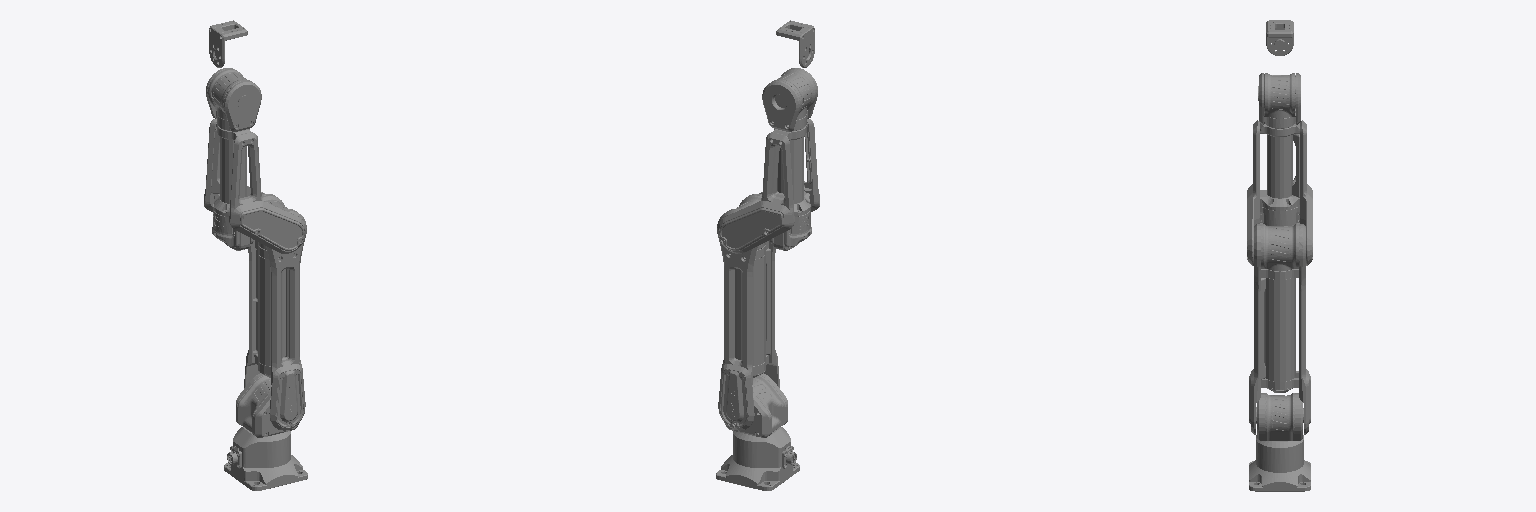
URDF robot description (xpkg_urdf_saberd6x):
<?xml version="1.0" encoding="utf-8"?>
<!-- This URDF was automatically created by SolidWorks to URDF Exporter! Originally created by [author] ([email redacted]) 
     Commit Version: 1.6.0-4-g7f85cfe  Build Version: 1.6.7995.38578
     For more information, please see http://wiki.ros.org/sw_urdf_exporter -->
<robot name="xpkg_urdf_saberd6x">
    <link name="base_link">
        <inertial>
            <origin xyz="-0.0027793 -9.439E-06 0.033407" rpy="0 0 0" />
            <mass value="0.2873" />
            <inertia ixx="0.00038435" ixy="-2.1028E-08" ixz="1.6655E-05"
                    iyy="0.00040643" iyz="-9.8042E-10" izz="0.00048639" />
        </inertial>
        <visual>
            <origin xyz="0 0 0" rpy="0 0 0" />
            <geometry>
                <mesh filename="package://xpkg_urdf_saberd6x/urdf/meshes/base_link.STL" />
            </geometry>
            <material name="">
                <color rgba="0.6 0.6 0.6 1" />
            </material>
        </visual>
        <collision>
            <origin xyz="0 0 0" rpy="0 0 0" />
            <geometry>
                <mesh filename="package://xpkg_urdf_saberd6x/urdf/meshes/base_link.STL" />
            </geometry>
        </collision>
    </link>
    
    <link name="link_1">
        <inertial>
            <origin xyz="0.0060334 0.0047366 0.027609" rpy="0 0 0" />
            <mass value="0.22105" />
            <inertia ixx="0.000106" ixy="-3.0677E-07" ixz="-1.5507E-05"
                    iyy="0.0001891" iyz="-9.9365E-08" izz="0.00015759" />
        </inertial>
        <visual>
            <origin xyz="0 0 0" rpy="0 0 0" />
            <geometry>
                <mesh filename="package://xpkg_urdf_saberd6x/urdf/meshes/link_1.STL" />
            </geometry>
            <material name="">
                <color rgba="0.6 0.6 0.6 1" />
            </material>
        </visual>
        <collision>
            <origin xyz="0 0 0" rpy="0 0 0" />
            <geometry>
                <mesh filename="package://xpkg_urdf_saberd6x/urdf/meshes/link_1.STL" />
            </geometry>
        </collision>
    </link>
    <joint name="joint_1" type="revolute">
        <origin xyz="0 0 0.0795" rpy="0 0 0" />
        <parent link="base_link" />
        <child link="link_1" />
        <axis xyz="0 0 1" />
        <limit effort="40.0" lower="-2.9845" upper="2.9845" velocity="100" />
    </joint>

    <link name="link_2">
        <inertial>
            <origin xyz="0.00016024 -0.00026641 0.1639" rpy="0 0 0" />
            <mass value="0.90382" />
            <inertia ixx="0.0056179" ixy="1.9731E-08" ixz="1.1466E-05"
                    iyy="0.0057706" iyz="-8.018E-07" izz="0.00034731" />
        </inertial>
        <visual>
            <origin xyz="0 0 0" rpy="0 0 0" />
            <geometry>
                <mesh filename="package://xpkg_urdf_saberd6x/urdf/meshes/link_2.STL" />
            </geometry>
            <material name="">
                <color rgba="0.6 0.6 0.6 1" />
            </material>
        </visual>
        <collision>
            <origin xyz="0 0 0" rpy="0 0 0" />
            <geometry>
                <mesh filename="package://xpkg_urdf_saberd6x/urdf/meshes/link_2.STL" />
            </geometry>
        </collision>
    </link>
    <joint name="joint_2" type="revolute">
        <origin xyz="0.015 0 0.0385" rpy="0 0 0" />
        <parent link="link_1" />
        <child link="link_2" />
        <axis xyz="0 1 0" />
        <limit effort="40.0" lower="-2.0944" upper="1.5708" velocity="100" />
    </joint>
    
    <link name="link_3">
        <inertial>
            <origin xyz="-0.060758 0.0015314 0.063124" rpy="0 0 0" />
            <mass value="0.77967" />
            <inertia ixx="0.0013164" ixy="6.7544E-07" ixz="0.00036698"
                    iyy="0.0017075" iyz="-1.8109E-06" izz="0.00062047" />
        </inertial>
        <visual>
            <origin xyz="0 0 0" rpy="0 0 0" />
            <geometry>
                <mesh filename="package://xpkg_urdf_saberd6x/urdf/meshes/link_3.STL" />
            </geometry>
            <material name="">
                <color rgba="0.6 0.6 0.6 1" />
            </material>
        </visual>
        <collision>
            <origin xyz="0 0 0" rpy="0 0 0" />
            <geometry>
                <mesh filename="package://xpkg_urdf_saberd6x/urdf/meshes/link_3.STL" />
            </geometry>
        </collision>
    </link>
    <joint name="joint_3" type="revolute">
        <origin xyz="0 0 0.3" rpy="0 0 0" />
        <parent link="link_2" />
        <child link="link_3" />
        <axis xyz="0 1 0" />
        <limit effort="40.0" lower="-0.3927" upper="3.1416" velocity="0" />
    </joint>

    <link name="link_4">
        <inertial>
            <origin xyz="2.0187E-05 -0.0020115 0.041453" rpy="0 0 0" />
            <mass value="0.27032" />
            <inertia ixx="0.00012345" ixy="-3.6634E-08" ixz="7.7235E-09"
                    iyy="0.0001646" iyz="3.282E-07" izz="0.00012046" />
        </inertial>
        <visual>
            <origin xyz="0 0 0" rpy="0 0 0" />
            <geometry>
                <mesh filename="package://xpkg_urdf_saberd6x/urdf/meshes/link_4.STL" />
            </geometry>
            <material name="">
                <color rgba="0.6 0.6 0.6 1" />
            </material>
        </visual>
        <collision>
            <origin xyz="0 0 0" rpy="0 0 0" />
            <geometry>
                <mesh filename="package://xpkg_urdf_saberd6x/urdf/meshes/link_4.STL" />
            </geometry>
        </collision>
    </link>
    <joint name="joint_4" type="revolute">
        <origin xyz="-0.072 0 0.185" rpy="0 0 0" />
        <parent link="link_3" />
        <child link="link_4" />
        <axis xyz="0 0 1" />
        <limit effort="40.0" lower="-2.9670597284" upper="2.9670597284" velocity="0" />
    </joint>

    <link name="link_5">
        <inertial>
            <origin xyz="0.001888 -0.0018108 0.055464" rpy="0 0 0" />
            <mass value="0.26763" />
            <inertia ixx="0.00013501" ixy="-4.1848E-08" ixz="-9.9225E-08"
                    iyy="0.00010699" iyz="-4.0834E-08" izz="8.4868E-05" />
        </inertial>
        <visual>
            <origin xyz="0 0 0" rpy="0 0 0" />
            <geometry>
                <mesh filename="package://xpkg_urdf_saberd6x/urdf/meshes/link_5.STL" />
            </geometry>
            <material name="">
                <color rgba="0.6 0.6 0.6 1" />
            </material>
        </visual>
        <collision>
            <origin xyz="0 0 0" rpy="0 0 0" />
            <geometry>
                <mesh filename="package://xpkg_urdf_saberd6x/urdf/meshes/link_5.STL" />
            </geometry>
        </collision>
    </link>
    <joint name="joint_5" type="revolute">
        <origin xyz="0 0 0.051" rpy="0 0 0" />
        <parent link="link_4" />
        <child link="link_5" />
        <axis xyz="0 1 0" />
        <limit effort="40.0" lower="-1.6580627894" upper="1.6580627894" velocity="100" />
    </joint>

    <link name="link_6">
        <inertial>
            <origin xyz="0.0092374 -7.1267E-11 0.022578" rpy="0 0 0" />
            <mass value="0.024422" />
            <inertia ixx="7.9532E-06" ixy="-3.7581E-15" ixz="5.8837E-08"
                    iyy="5.5751E-06" iyz="3.788E-14" izz="5.766E-06" />
        </inertial>
        <visual>
            <origin xyz="0 0 0" rpy="0 0 0" />
            <geometry>
                <mesh filename="package://xpkg_urdf_saberd6x/urdf/meshes/link_6.STL" />
            </geometry>
            <material name="">
                <color rgba="0.6 0.6 0.6 1" />
            </material>
        </visual>
        <collision>
            <origin xyz="0 0 0" rpy="0 0 0" />
            <geometry>
                <mesh filename="package://xpkg_urdf_saberd6x/urdf/meshes/link_6.STL" />
            </geometry>
        </collision>
    </link>
    <joint name="joint_6" type="revolute">
        <origin xyz="-0.027 0 0.075" rpy="0 0 0" />
        <parent link="link_5" />
        <child link="link_6" />
        <axis xyz="-1 0 0" />
        <limit effort="40.0" lower="-1.6057029118" upper="1.6057029118" velocity="100" />
    </joint>
</robot>

--- Render facts (derived) ---
The picture shows the robot from 3 angles, left to right: view 1: azimuth 30°, elevation 25°; view 2: azimuth 150°, elevation 25°; view 3: azimuth 270°, elevation 25°; orthographic projection.
Robot: xpkg_urdf_saberd6x — 7 links, 6 joints (6 revolute); root link base_link; default pose: all joints at 0.
Visible links, largest first — view 1: link_2, link_3, base_link, link_4, link_1, link_6; view 2: link_2, link_3, base_link, link_4, link_1, link_6; view 3: link_2, link_3, base_link, link_4, link_1, link_6.
Link boxes in pixels (x1=…): link_2: x1=244, y1=194, x2=306, y2=430; link_3: x1=204, y1=119, x2=306, y2=253; base_link: x1=224, y1=427, x2=307, y2=490; link_4: x1=206, y1=68, x2=261, y2=131; link_1: x1=236, y1=373, x2=305, y2=437; link_6: x1=209, y1=20, x2=247, y2=67; link_2: x1=717, y1=194, x2=779, y2=430; link_3: x1=717, y1=119, x2=819, y2=253; base_link: x1=716, y1=427, x2=799, y2=490; link_4: x1=762, y1=68, x2=817, y2=131; link_1: x1=718, y1=373, x2=787, y2=437; link_6: x1=776, y1=20, x2=814, y2=67; link_2: x1=1249, y1=224, x2=1310, y2=434; link_3: x1=1247, y1=120, x2=1312, y2=265; base_link: x1=1249, y1=435, x2=1310, y2=491; link_4: x1=1258, y1=73, x2=1300, y2=128; link_1: x1=1257, y1=393, x2=1302, y2=440; link_6: x1=1266, y1=20, x2=1293, y2=55.
Size in the robot's own frame: 0.141 by 0.106 by 0.7692 metres.
6 mesh visuals loaded from 7 distinct referenced files (6 binary STL); not drawn: 1 (reference not matched to a file when rendering).